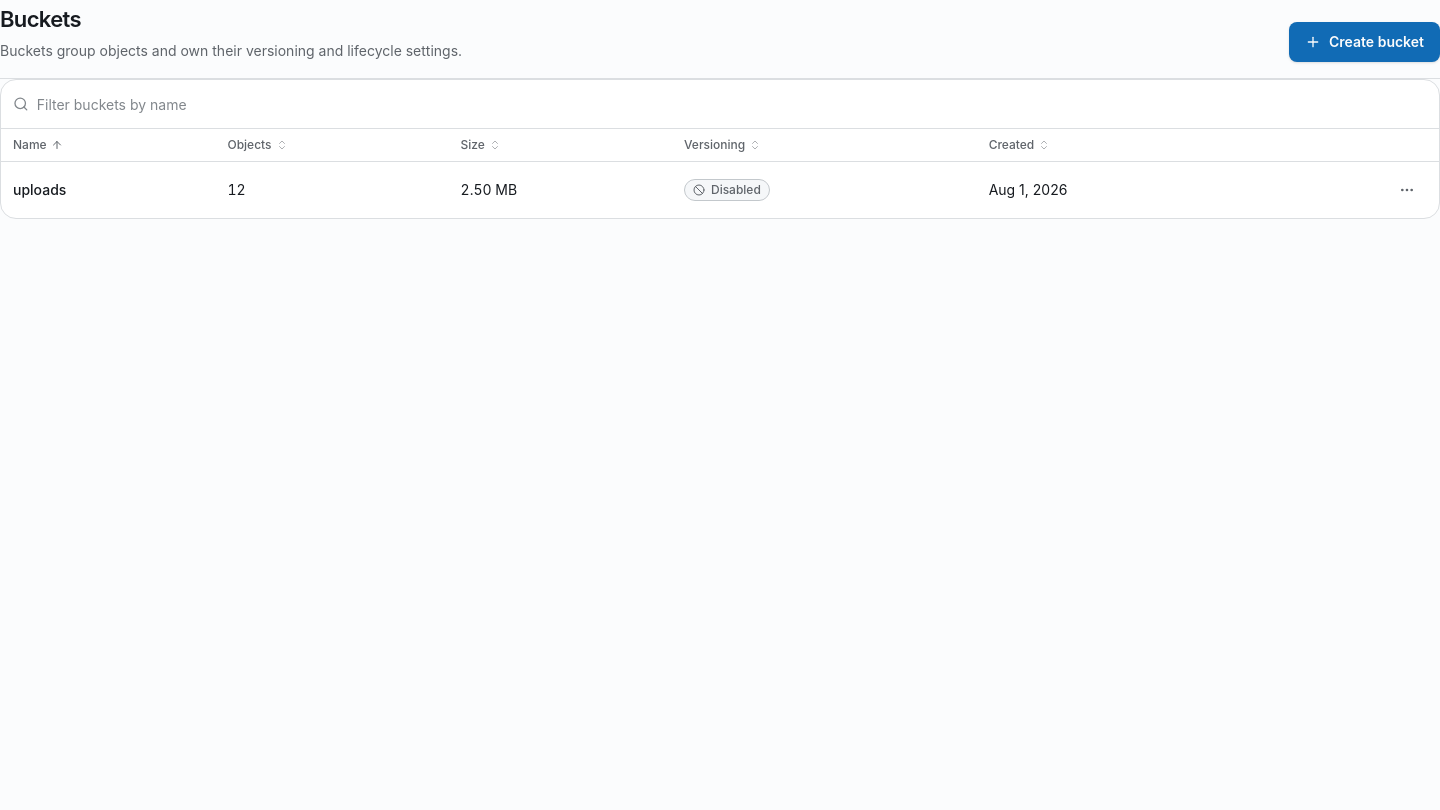
BucketsScreen › requires confirmation before deleting and shows the backend refusal
Expected: the link "uploads" is shown, top-left (13, 181), bottom-right (66, 198)
What coordinates should you click on to do the following:
click the button named "actions for uploads"
I would click on:
 (1407, 190)
Its box is top-left (1387, 170), bottom-right (1427, 210).
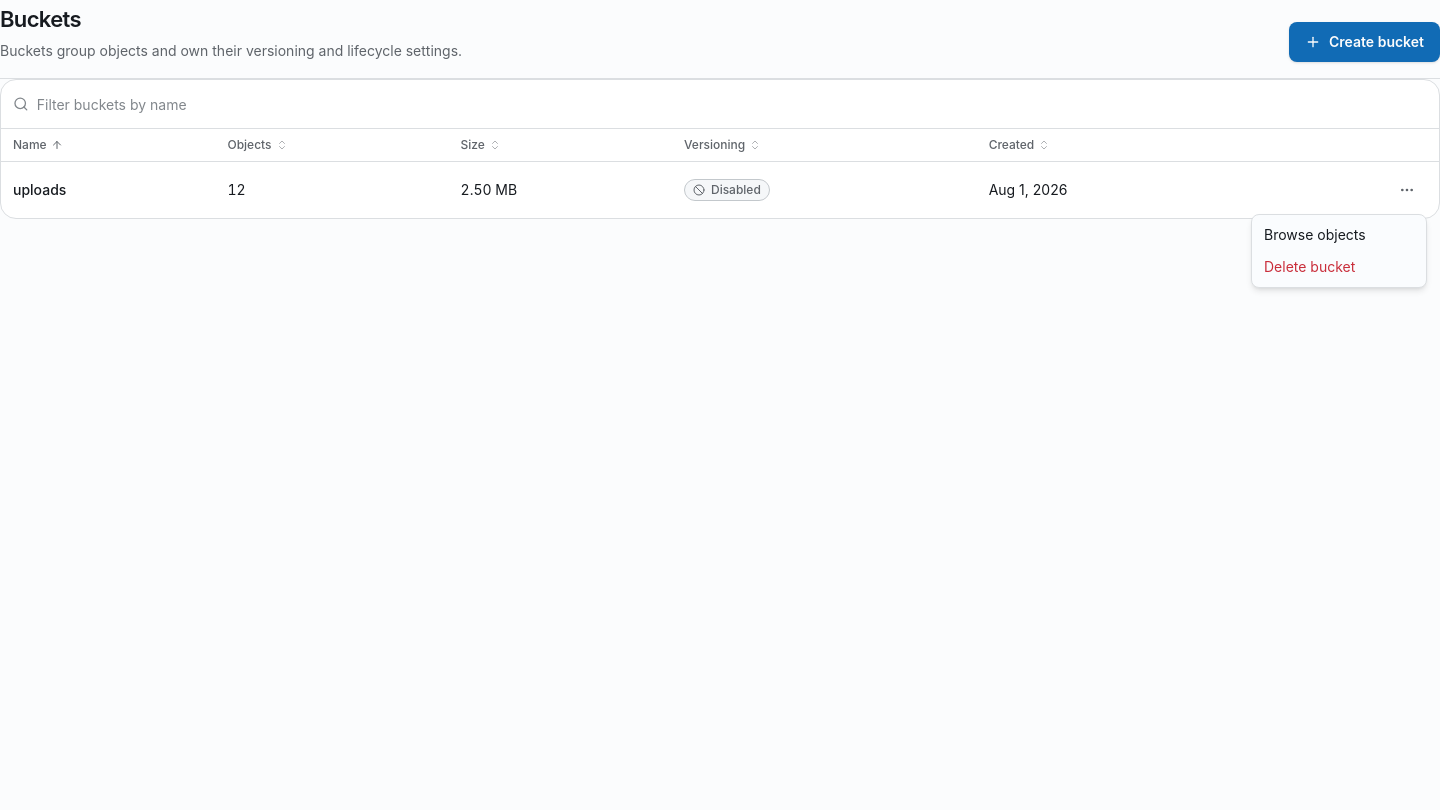
What coordinates should you click on to do the following:
click the menu item "Delete bucket"
I would click on:
 (1310, 266)
Its box is top-left (1264, 258), bottom-right (1355, 275).
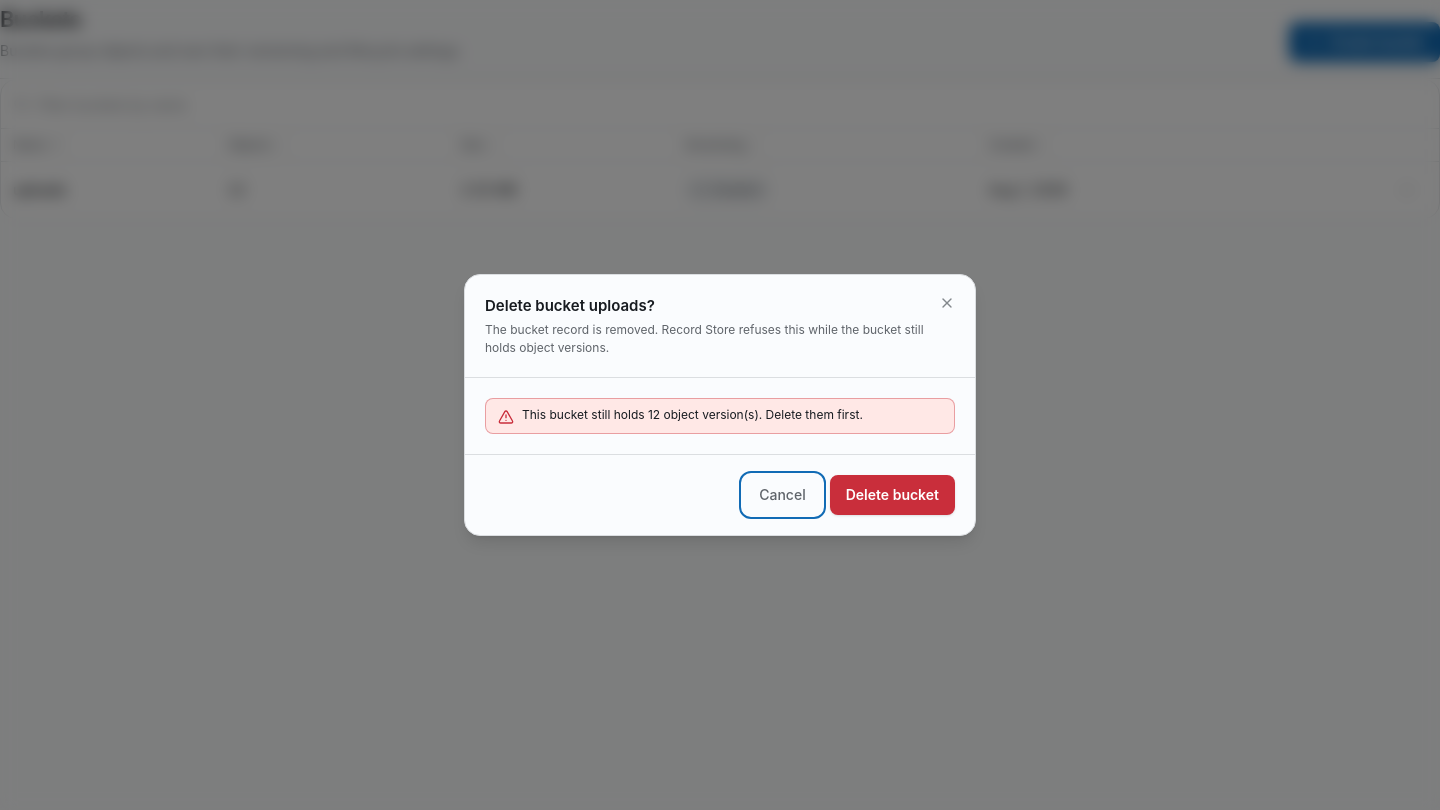
What coordinates should you click on to do the following:
click the button "Delete bucket"
I would click on:
 (892, 495)
Its box is top-left (830, 475), bottom-right (955, 515).
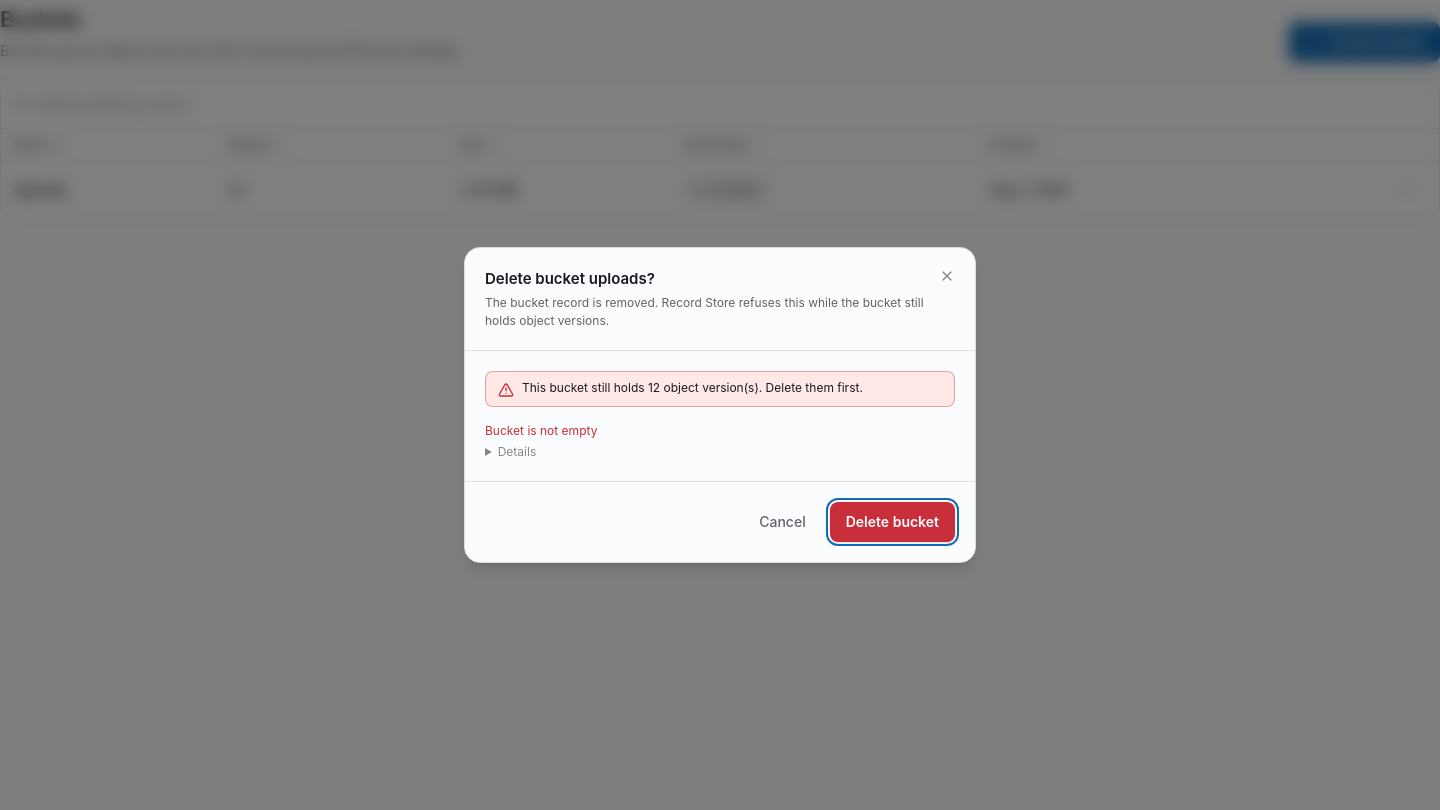
Result: the text "Bucket is not empty" is shown at top-left (485, 423), bottom-right (597, 438)
